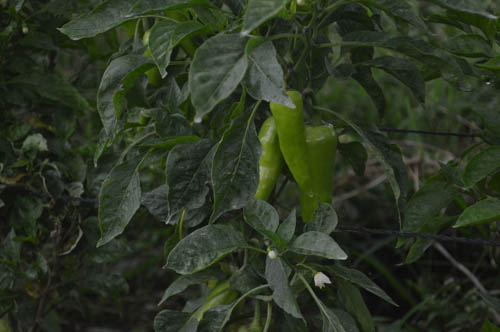ChiliPepper: (295, 123, 338, 217), (276, 91, 312, 195), (255, 119, 281, 205)
